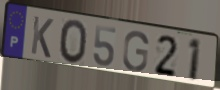1: (187, 37, 201, 85)
2: (152, 34, 181, 79)
5: (92, 24, 118, 68)
G: (121, 30, 151, 73)
K: (29, 14, 55, 61)
O: (59, 18, 89, 66)
